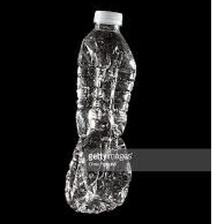bottle: (63, 10, 139, 211)
